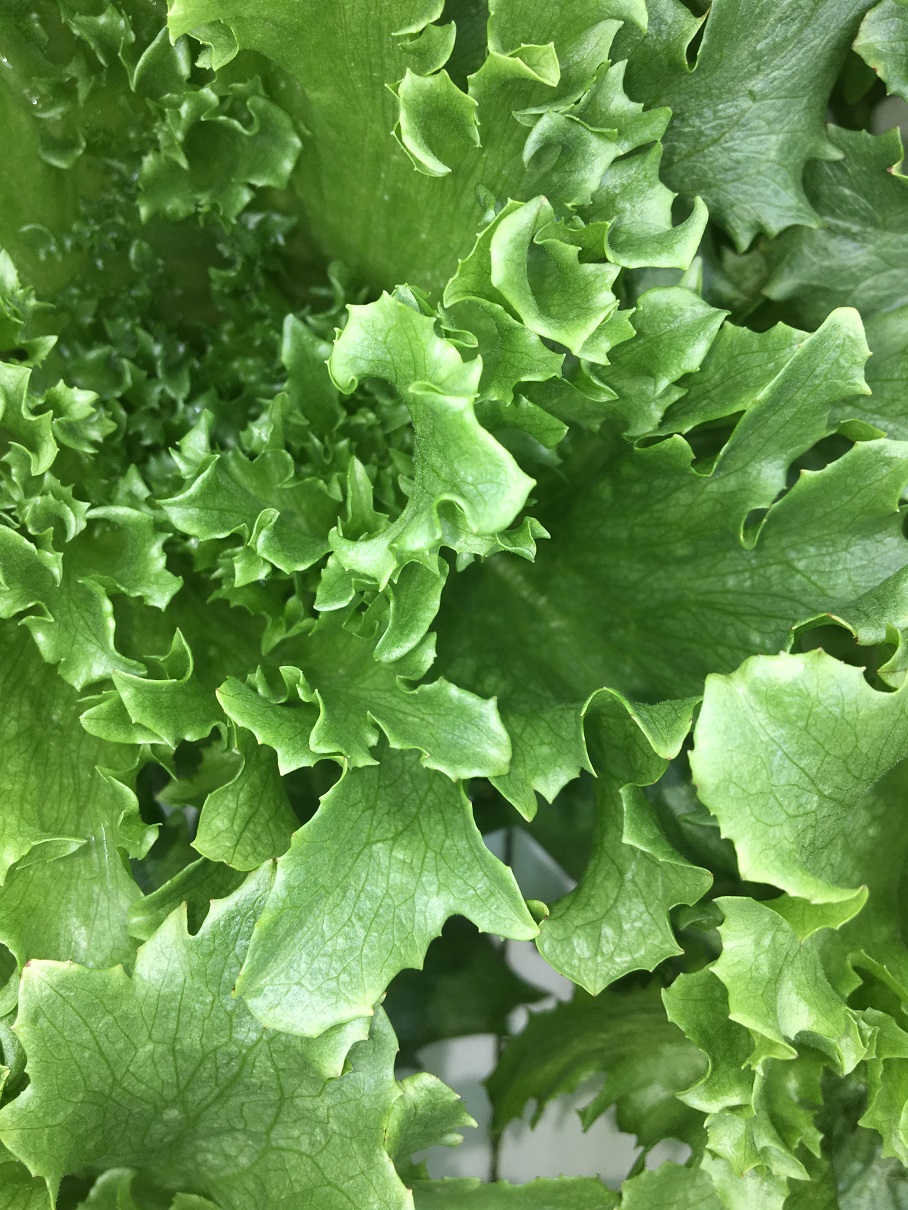tipburn: (528, 894, 568, 934), (9, 945, 47, 984), (214, 961, 250, 1001), (810, 596, 851, 631), (840, 620, 874, 656), (263, 851, 305, 879), (857, 51, 889, 87), (876, 151, 907, 186), (786, 456, 819, 482), (844, 34, 876, 58)
